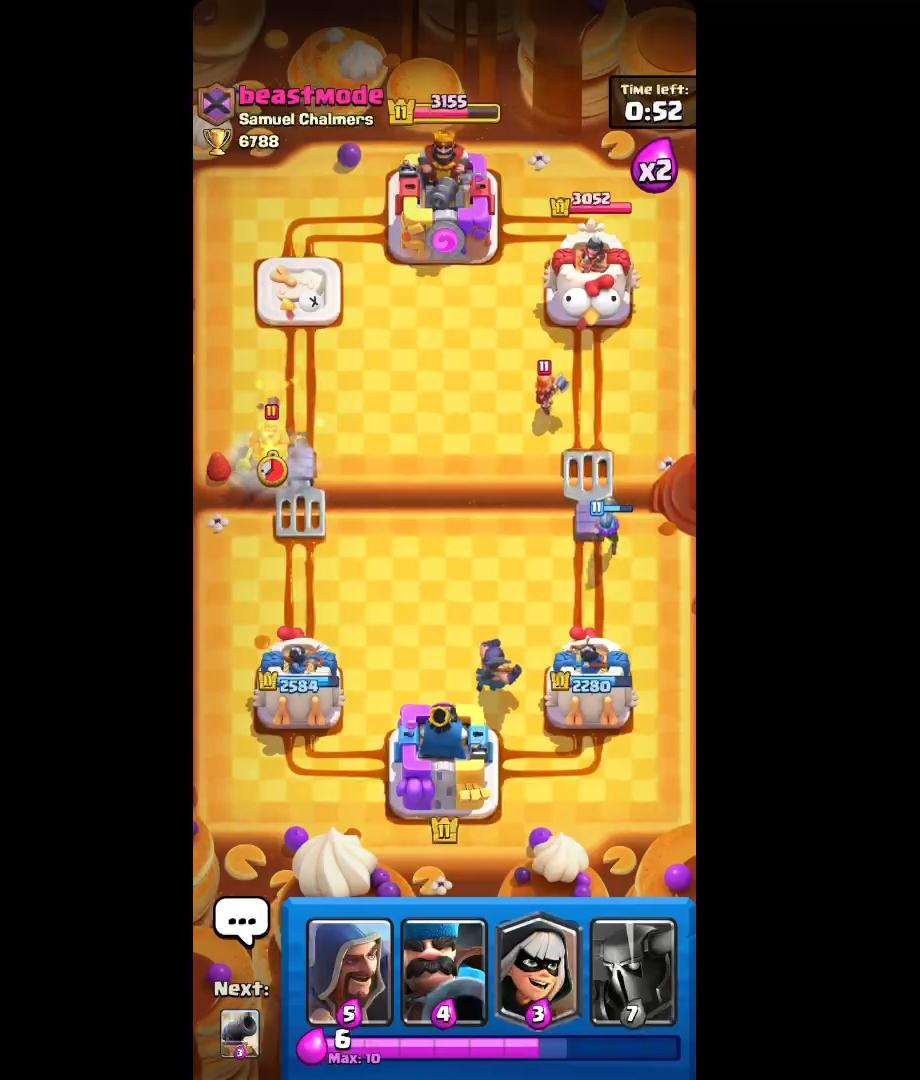Valkyrie: (527, 360, 575, 425)
